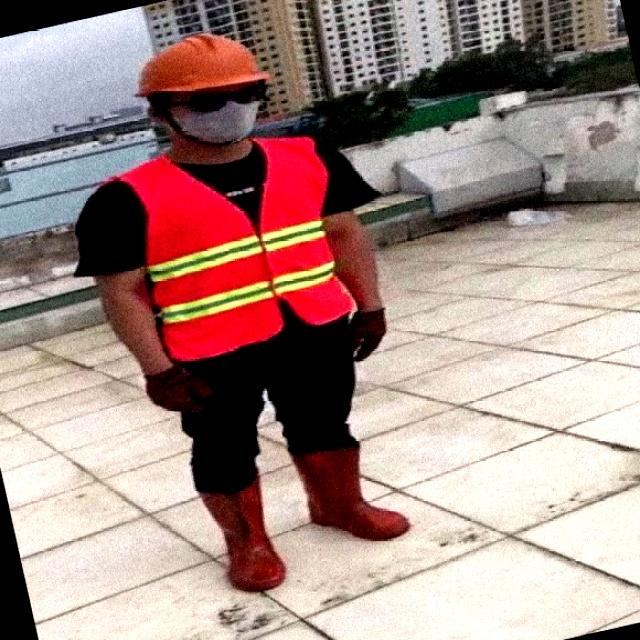helmet: (127, 26, 277, 94)
safety_vest: (94, 136, 366, 365)
